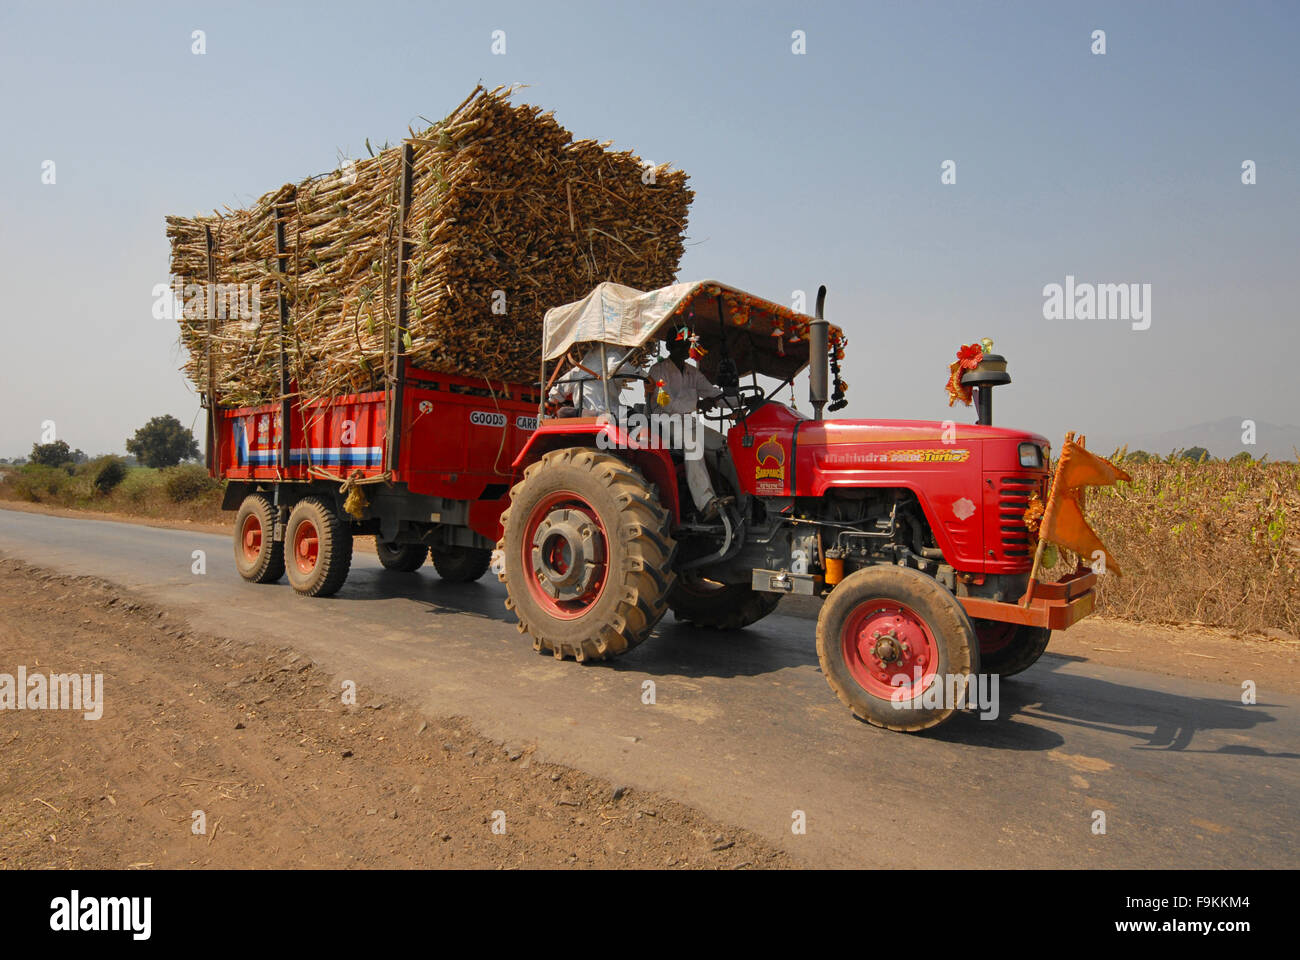wheel: (504, 449, 654, 669), (817, 568, 971, 737), (285, 494, 337, 591), (233, 497, 270, 581)
